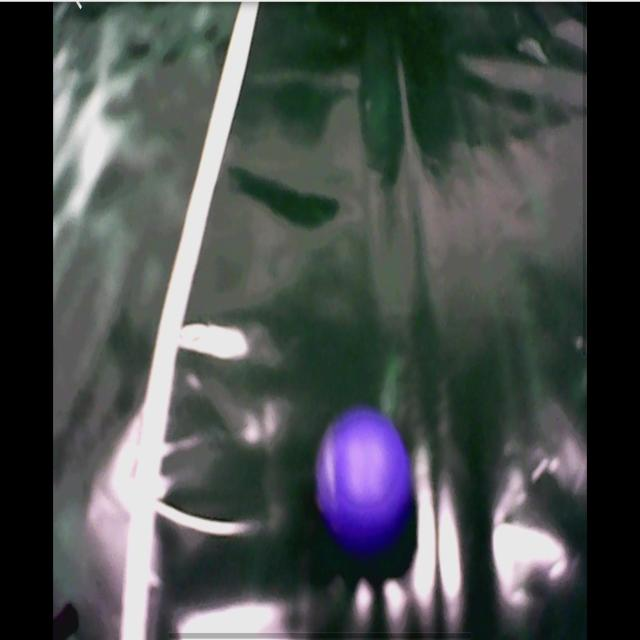ball: (320, 415, 409, 542)
